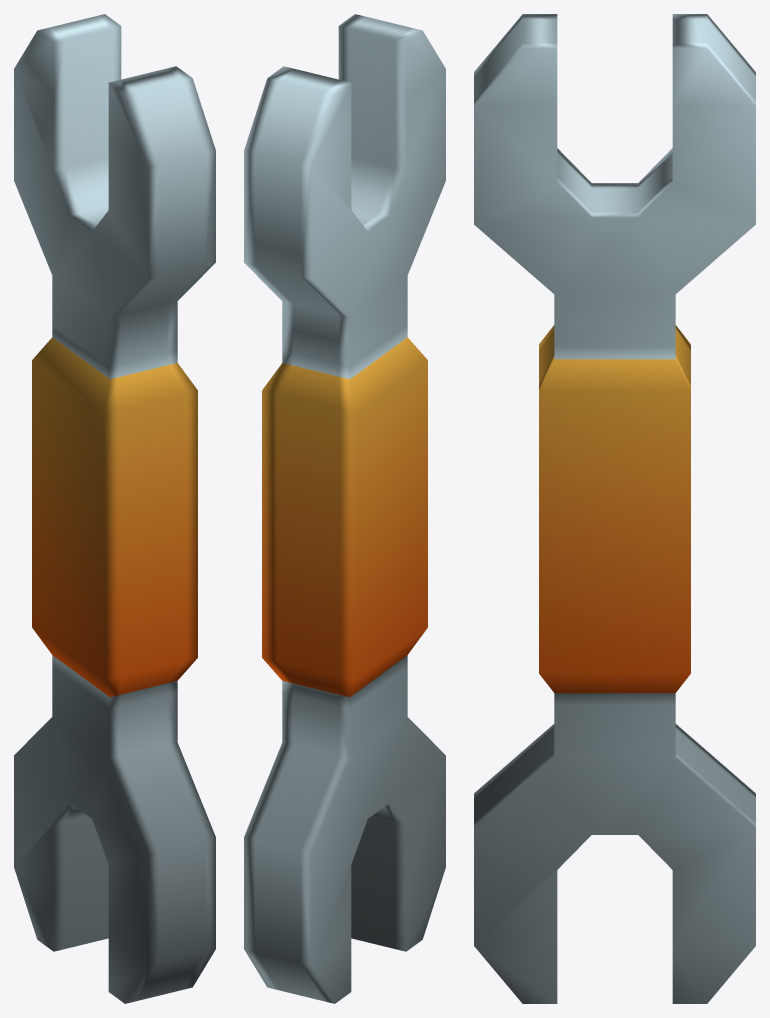
File: Wrench.fbx
3 views of the same model, side by side, from view 1: azimuth 30°, elevation 25°; view 2: azimuth 150°, elevation 25°; view 3: azimuth 270°, elevation 25° (orthographic). The views are drawn at different scales.
Visible parts, largest first — view 1: wrench; view 2: wrench; view 3: wrench.
Part boxes in pixels (x1,y1,x2,y2): wrench: (14,14,215,1003); wrench: (244,14,445,1003); wrench: (474,14,755,1003).
Bounding box in the file's own units: 0.5554 × 5.17 × 1.38.
